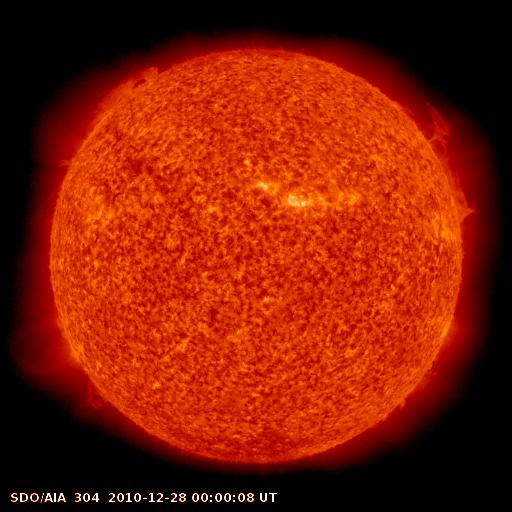prominence: (401, 88, 486, 223), (79, 52, 166, 131), (379, 356, 447, 431), (63, 368, 119, 424)
